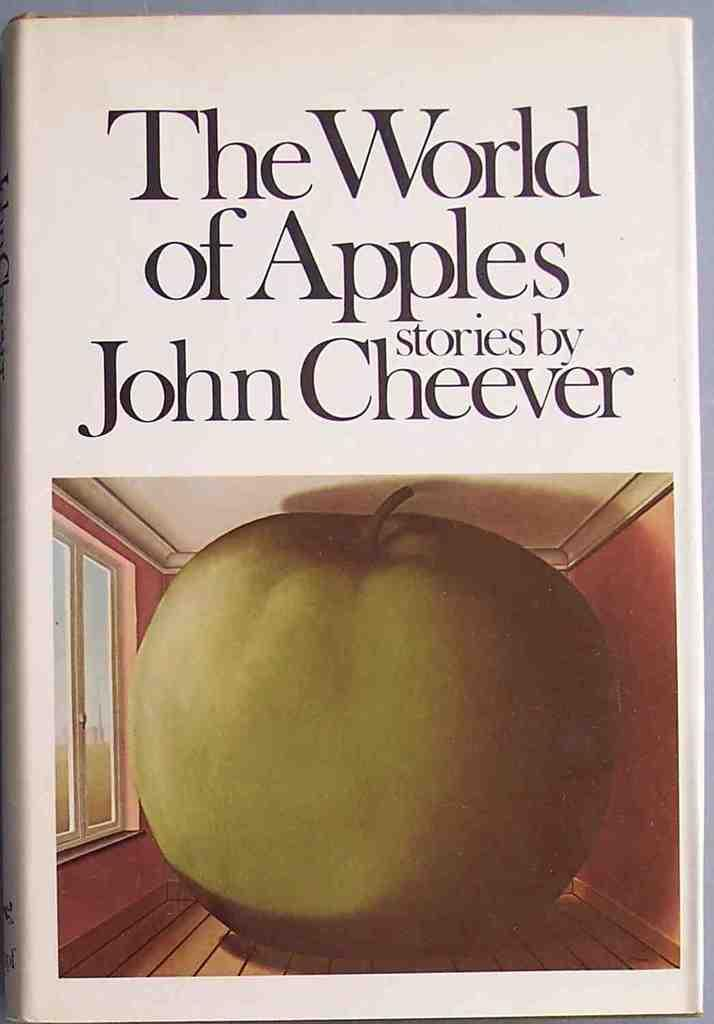book: (0, 12, 704, 1023)
